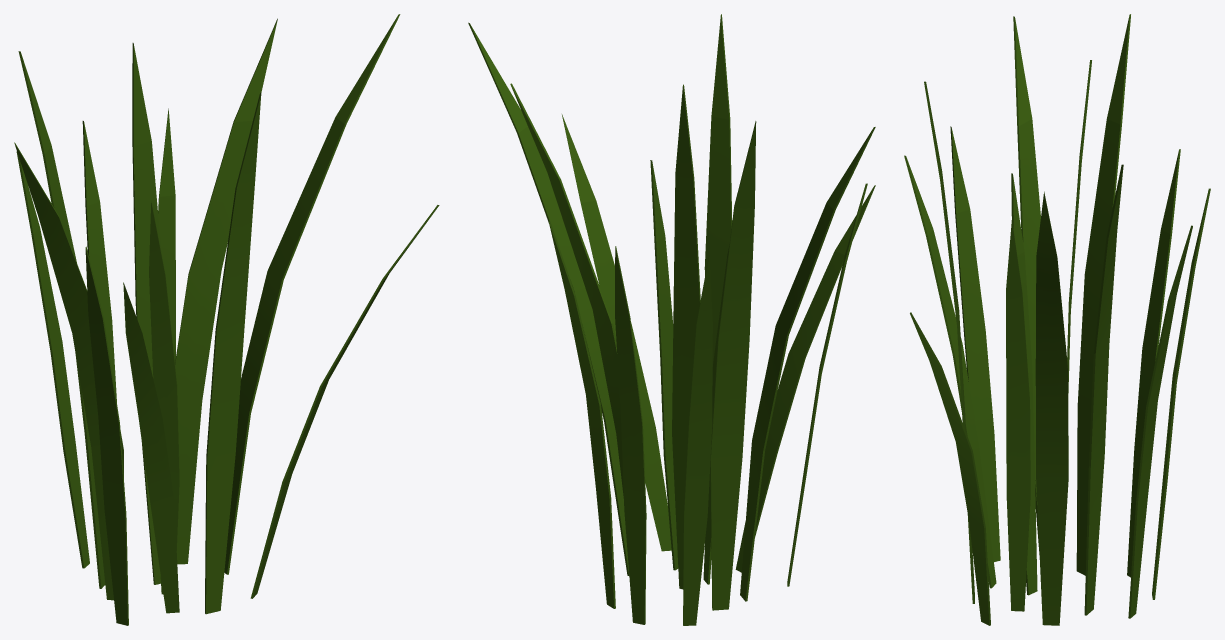
File: Bush_type2.FBX
3 views of the same model, side by side, from view 1: azimuth 30°, elevation 25°; view 2: azimuth 150°, elevation 25°; view 3: azimuth 270°, elevation 25° (orthographic). The views are drawn at different scales.
Parts seen in each view (by area): view 1: Bush_type2_01; view 2: Bush_type2_01; view 3: Bush_type2_01.
Part boxes in pixels (bbox=[...]): Bush_type2_01: bbox=[14, 14, 439, 625]; Bush_type2_01: bbox=[468, 14, 875, 625]; Bush_type2_01: bbox=[904, 14, 1210, 625].
Size of the model in its own units: 71.8 by 90.81 by 47.64.
